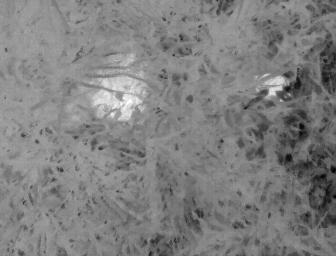landmine: (80, 49, 155, 127)
